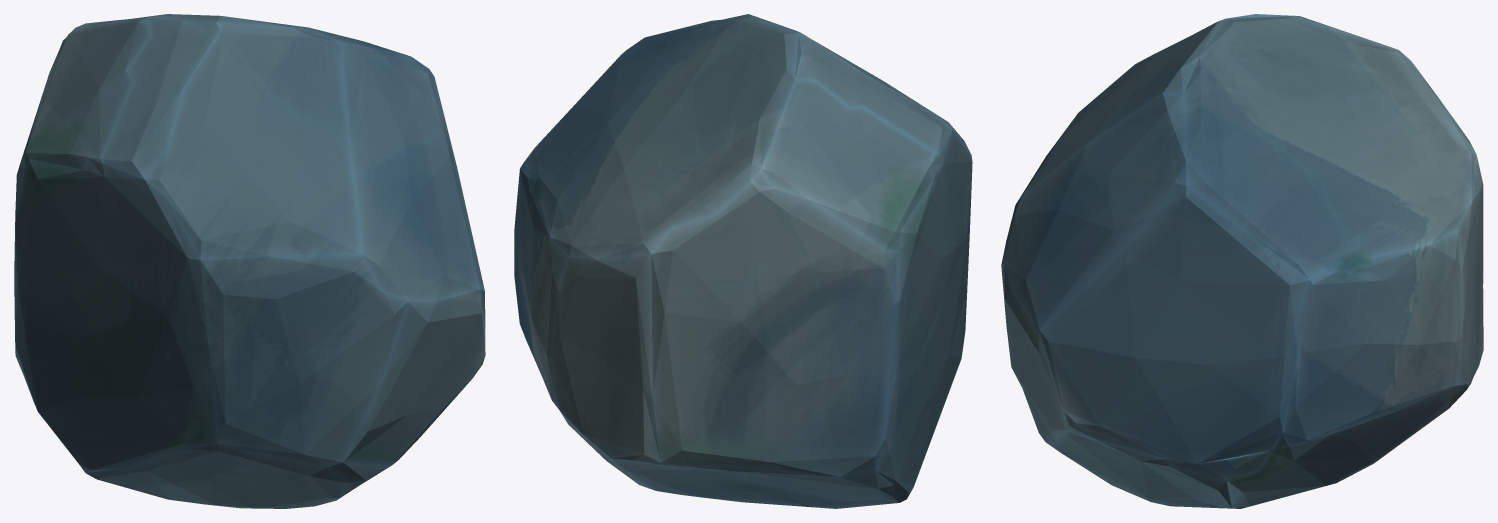
File: Stone02.obj
3 renders of one model, left to right at view 1: azimuth 30°, elevation 25°; view 2: azimuth 150°, elevation 25°; view 3: azimuth 270°, elevation 25°, orthographic. The views are drawn at different scales.
Parts seen in each view (by area): view 1: submesh; view 2: submesh; view 3: submesh.
Part boxes in pixels (bbox=[...]): submesh: bbox=[14, 14, 485, 508]; submesh: bbox=[514, 14, 972, 508]; submesh: bbox=[1001, 14, 1483, 508].
Size of the model in its own units: 0.8391 by 0.9339 by 0.8967.
Materials: 1 (1 with a texture image).
